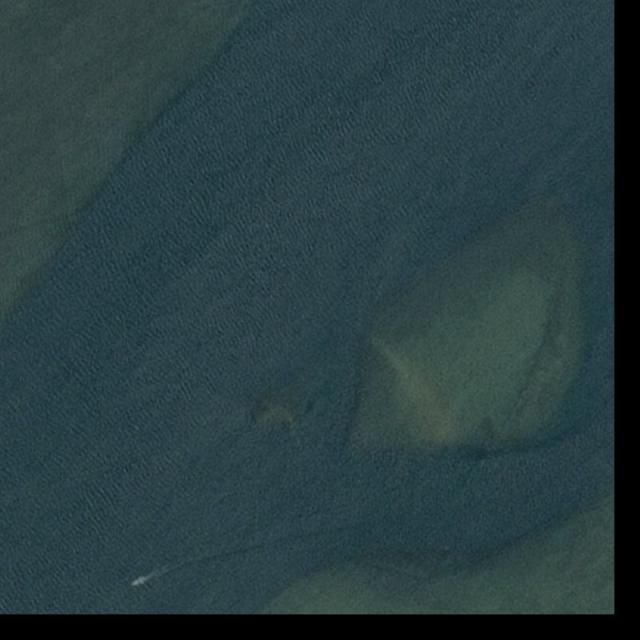ship: (131, 578, 146, 587)
